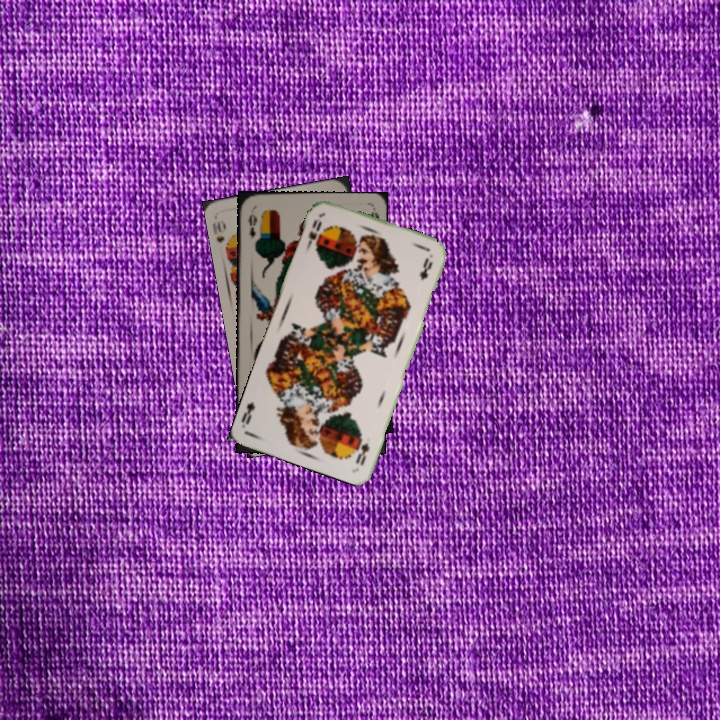EO: (244, 207, 261, 247)
S10: (209, 216, 233, 254)
SO: (302, 216, 324, 253), (351, 439, 372, 468)
